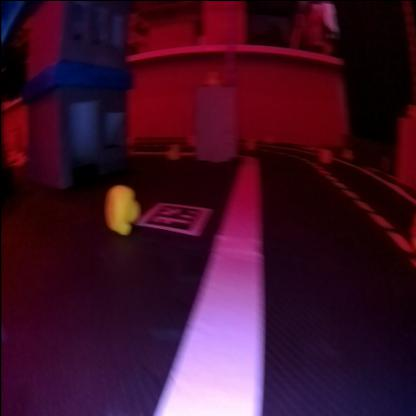Duckie: (105, 184, 139, 232)
QR code: (140, 201, 210, 231)
